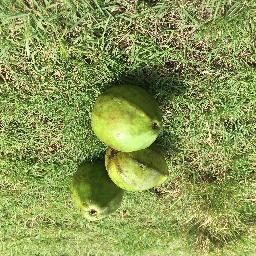Good_guava: (92, 82, 162, 160), (104, 141, 177, 194), (76, 156, 119, 225)
